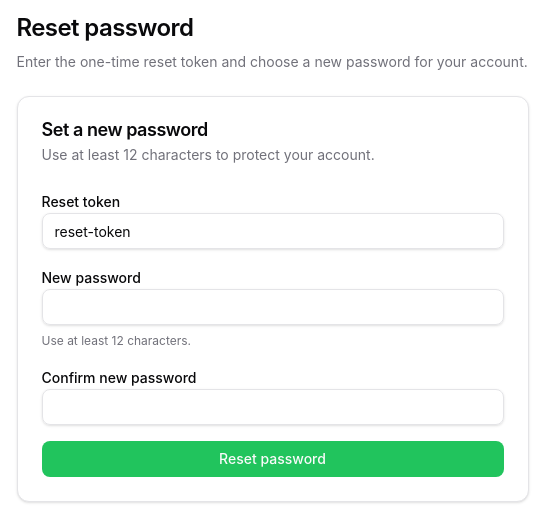
Test: AccountResetPage › prefills the token and submits the reset payload
Expected: the field labelled "Reset token" holds "reset-token", [42,213,504,249]
Step 1. Type "longenoughpassword123" into the password field labelled "New password" → (272, 307), box [42,289,504,325]
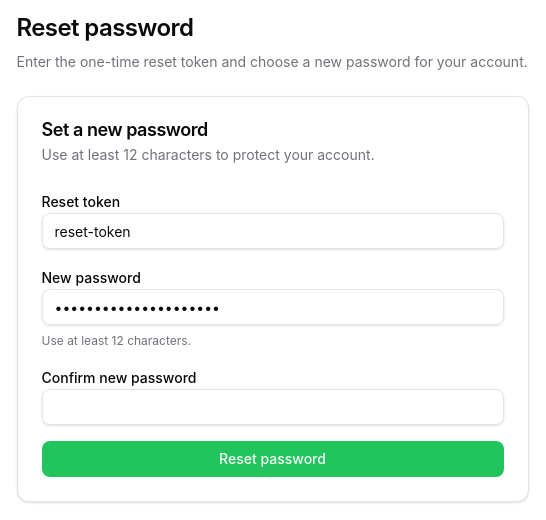
Step 2. Type "longenoughpassword123" into the password field labelled "Confirm new password" → (272, 407), box [42,389,504,425]
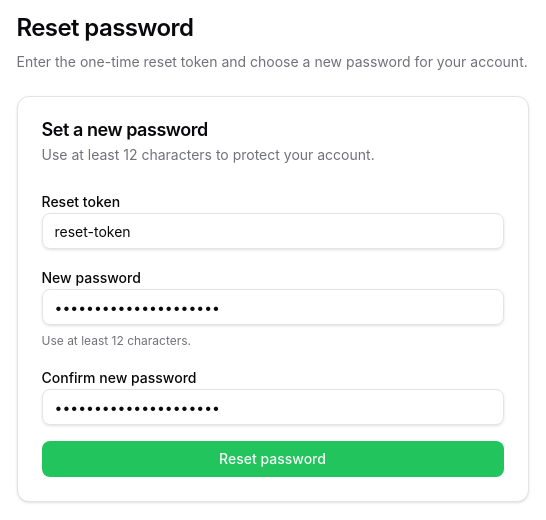
Step 3. Click the button "Reset password" → (272, 459), box [42,441,504,477]
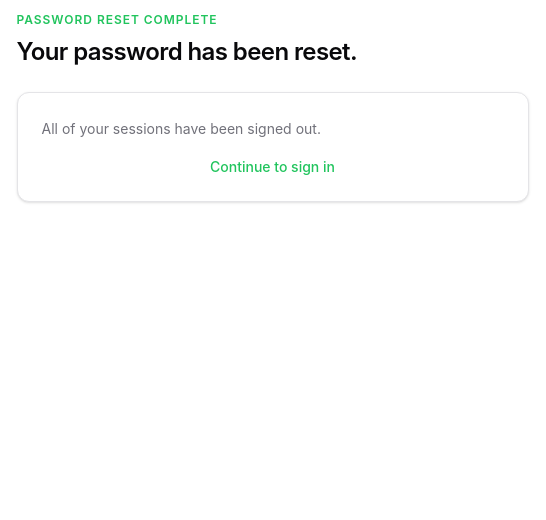
Now the heading "Your password has been reset." is shown, box [16,37,357,66]
